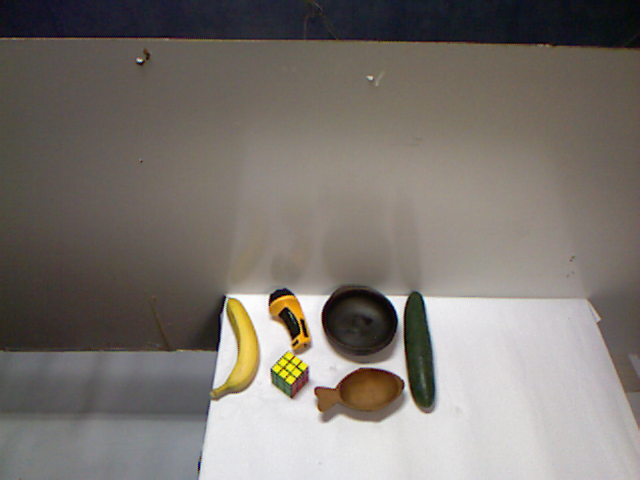borrador: (311, 395, 400, 442)
guante: (378, 284, 478, 433)
pelota: (309, 355, 349, 400)
platano: (335, 310, 401, 400)
platoperro: (216, 299, 326, 400)
